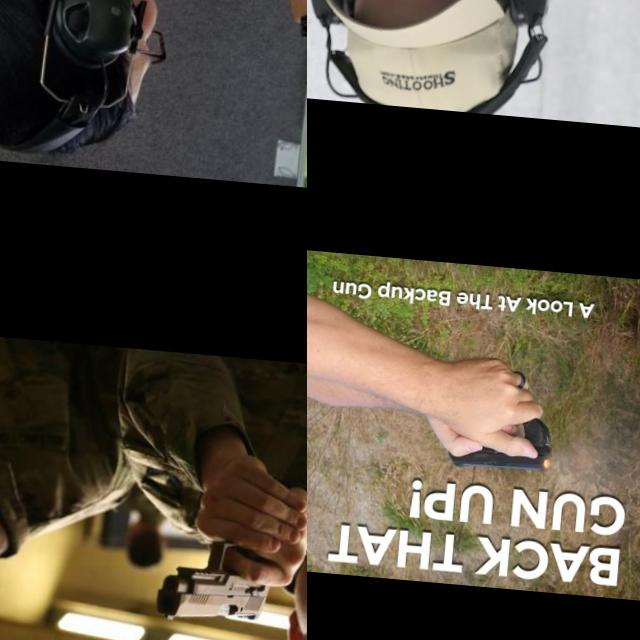handgun: (150, 532, 278, 632), (442, 426, 554, 477), (307, 0, 380, 63), (294, 13, 307, 55)
